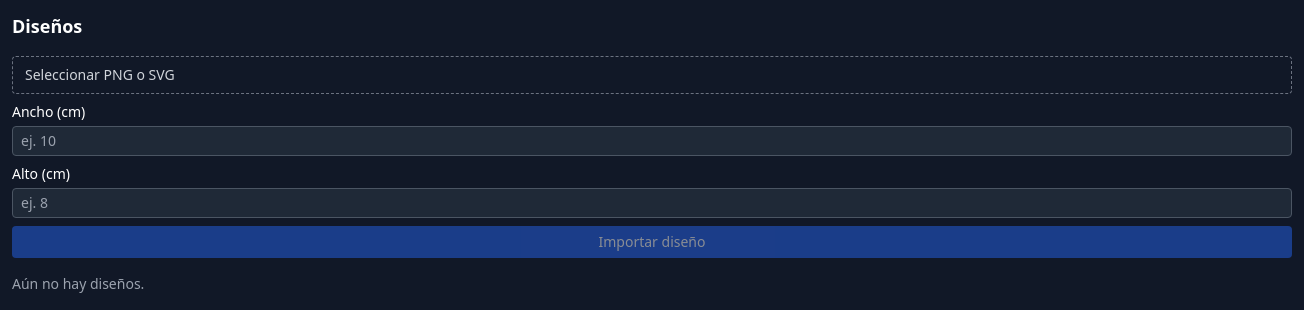
Test: DesignList import UI › shows a loading indicator while the import is in progress
Click the button "Seleccionar PNG o SVG".
click(100, 74)  # box [12,56,1292,94]
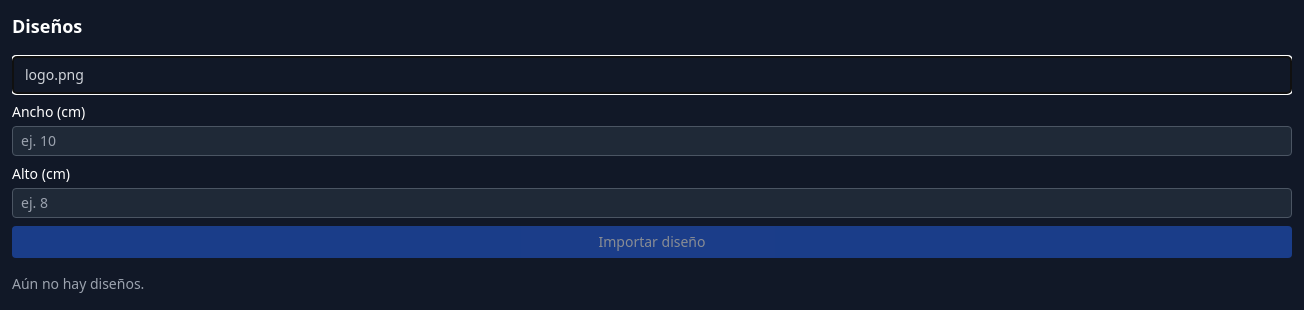
Type "10" into the number field labelled "Ancho (cm)".
click(652, 141); type("10")  # box [12,126,1292,156]
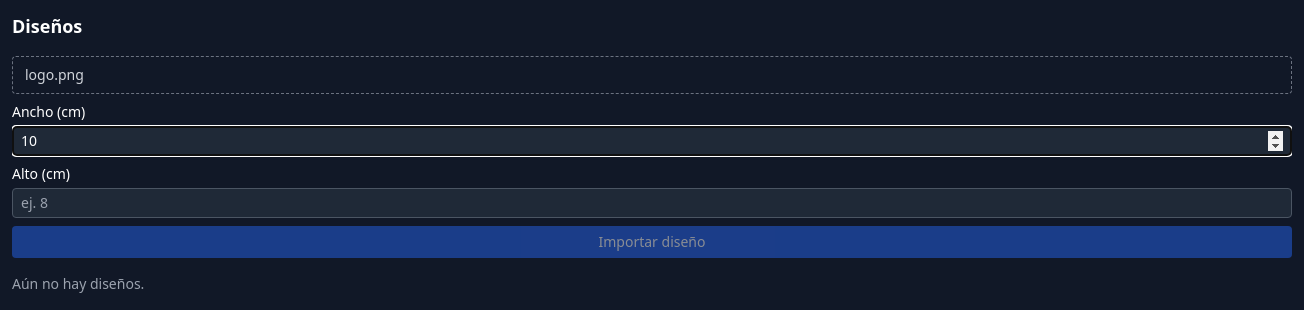
Type "8" into the number field labelled "Alto (cm)".
click(652, 203); type("8")  # box [12,188,1292,218]
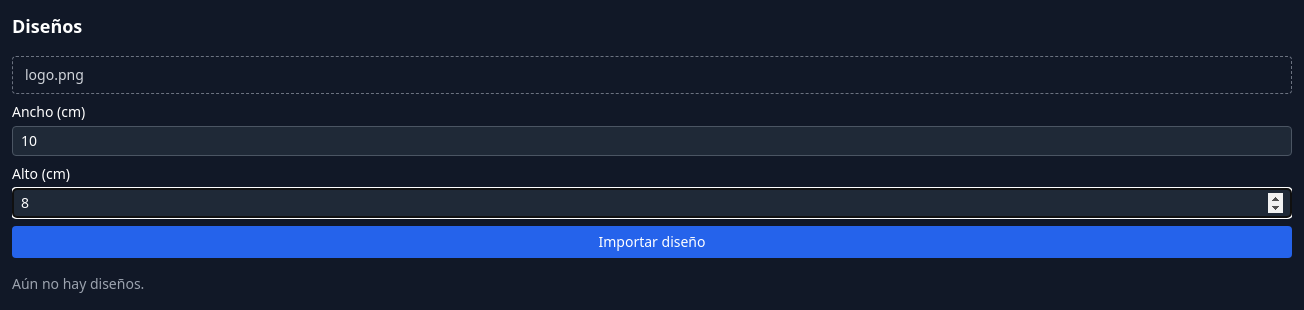
Click the button "Importar diseño".
click(652, 242)  # box [12,226,1292,258]
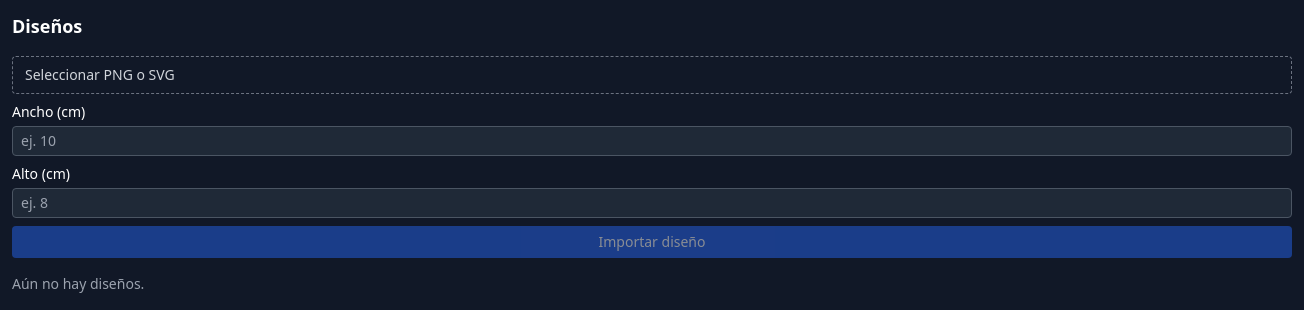
Expected: the button "Importar diseño" is disabled, [12,226,1292,258]
